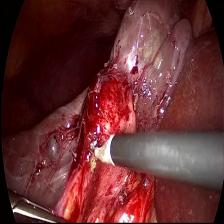Grasper: (8, 189, 66, 224)
Hook: (88, 132, 120, 170)
